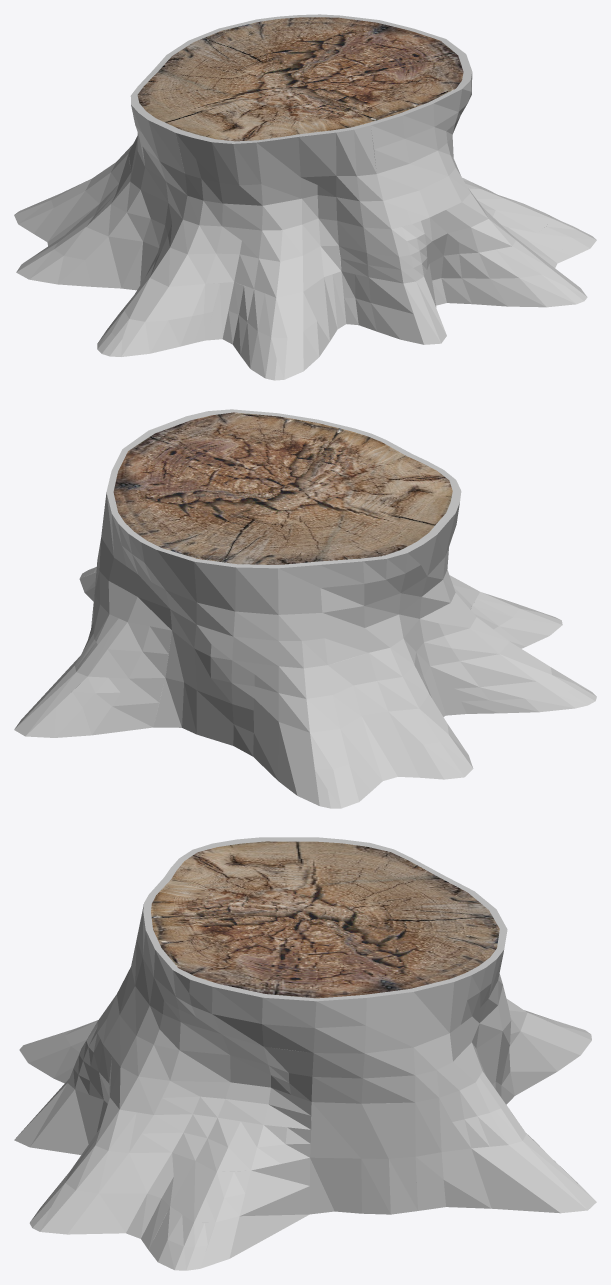
Rendered from Generic_Stump_Model_0.obj.
The picture shows the model from 3 angles, top to bottom: view 1: azimuth 30°, elevation 25°; view 2: azimuth 150°, elevation 25°; view 3: azimuth 270°, elevation 25°; orthographic projection. The views are drawn at different scales.
Visible parts, largest first — view 1: Bark, Foliage; view 2: Bark, Foliage; view 3: Bark, Foliage.
Boxes of the visible parts, x1,y1,x2,y2 form: Bark: [14, 14, 596, 380]; Foliage: [137, 17, 463, 141]; Bark: [14, 409, 596, 808]; Foliage: [113, 412, 452, 564]; Bark: [14, 837, 596, 1270]; Foliage: [151, 841, 499, 998].
Size of the model in its own units: 1.66 by 0.6 by 1.43.
